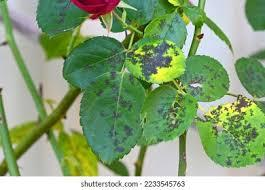leaf_spot: (44, 15, 262, 169)
